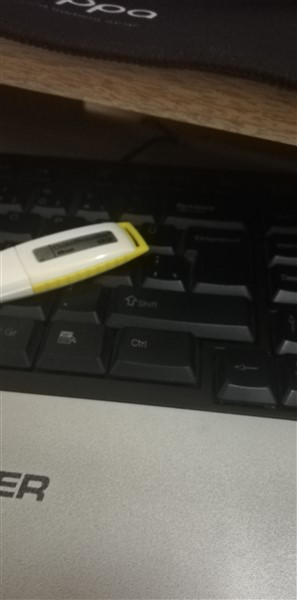flash disk: (1, 212, 146, 307)
klavye: (1, 144, 296, 599)
